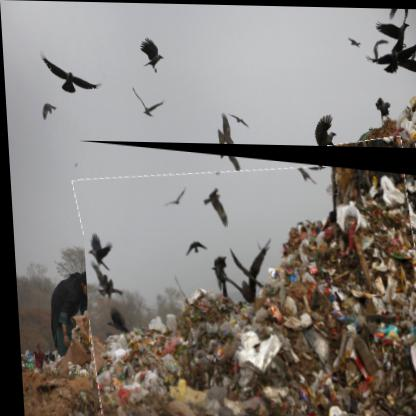Garbage: (77, 141, 416, 416)
